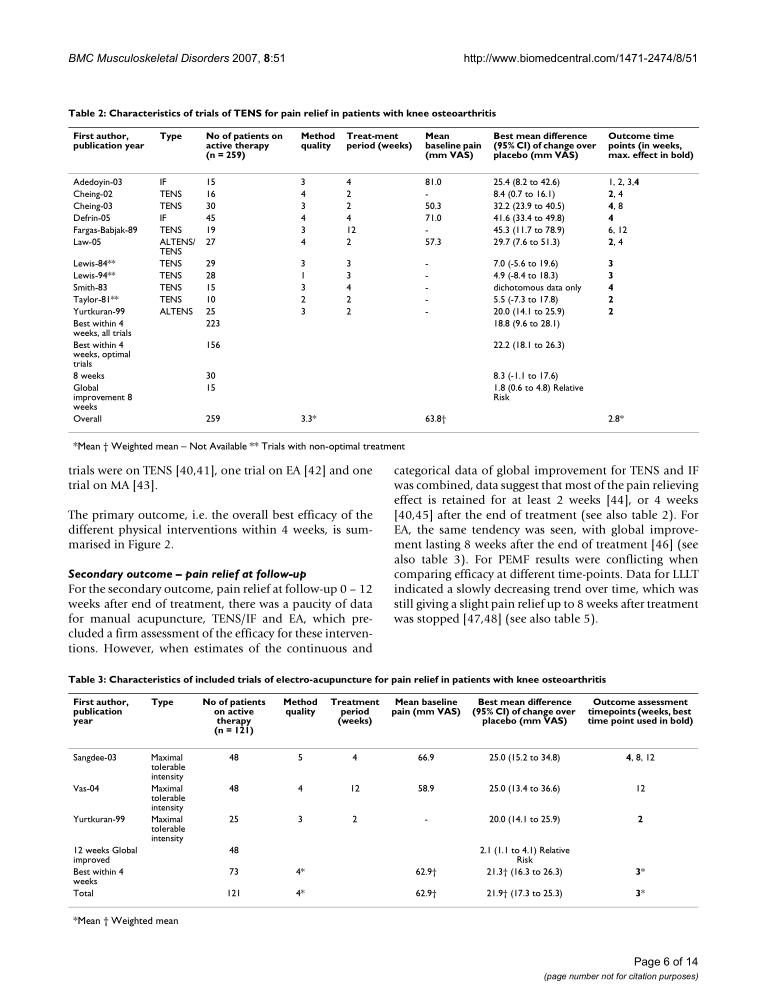table: (73, 130, 693, 423), (73, 696, 693, 898)
